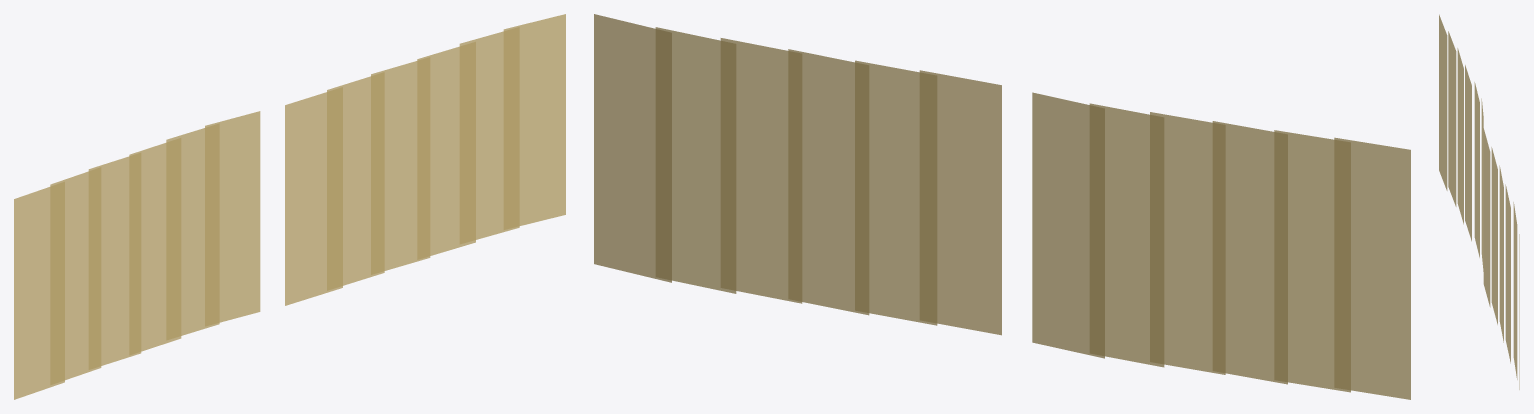
File: CORTINA.fbx
The picture shows the model from 3 angles, left to right: view 1: azimuth 30°, elevation 25°; view 2: azimuth 150°, elevation 25°; view 3: azimuth 270°, elevation 25°; orthographic projection. The views are drawn at different scales.
Visible parts, largest first — view 1: Plane.001, Plane.002; view 2: Plane.001, Plane.002; view 3: Plane.002, Plane.001.
Boxes of the visible parts, x1,y1,x2,y2 form: Plane.001: (285, 14, 565, 305); Plane.002: (14, 111, 260, 399); Plane.001: (594, 14, 1001, 335); Plane.002: (1032, 92, 1410, 399); Plane.002: (1439, 14, 1483, 271); Plane.001: (1483, 128, 1519, 389).
Bounding box in the file's own units: 6.84 × 2.18 × 1.02.
